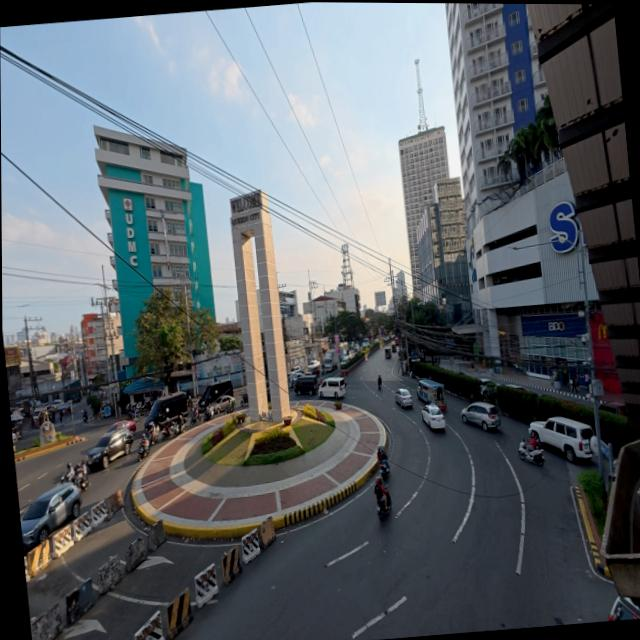Jeepneys: (418, 379, 446, 410), (390, 342, 397, 353), (385, 348, 392, 358)
car: (21, 483, 81, 550), (530, 417, 597, 462), (86, 428, 133, 468), (462, 402, 501, 430), (609, 597, 639, 621), (422, 404, 445, 429), (106, 419, 136, 433), (214, 395, 236, 414), (600, 401, 626, 416), (395, 388, 413, 407), (33, 407, 49, 427), (480, 379, 497, 396), (290, 371, 305, 388), (505, 383, 527, 391), (58, 401, 71, 413), (306, 365, 321, 375), (307, 360, 320, 371), (50, 400, 63, 410), (342, 355, 350, 365), (291, 366, 301, 373)
motorcycle: (518, 440, 544, 465), (377, 486, 392, 519), (74, 463, 90, 491), (137, 436, 150, 461), (168, 420, 181, 437), (379, 459, 389, 481), (61, 469, 76, 483), (190, 411, 200, 425), (204, 410, 214, 422), (82, 409, 89, 423), (241, 393, 248, 406), (180, 418, 186, 433), (378, 383, 382, 390)
trucks: (324, 350, 339, 371)
vans: (145, 392, 189, 426), (198, 380, 233, 410), (320, 377, 346, 398), (295, 375, 319, 395)
